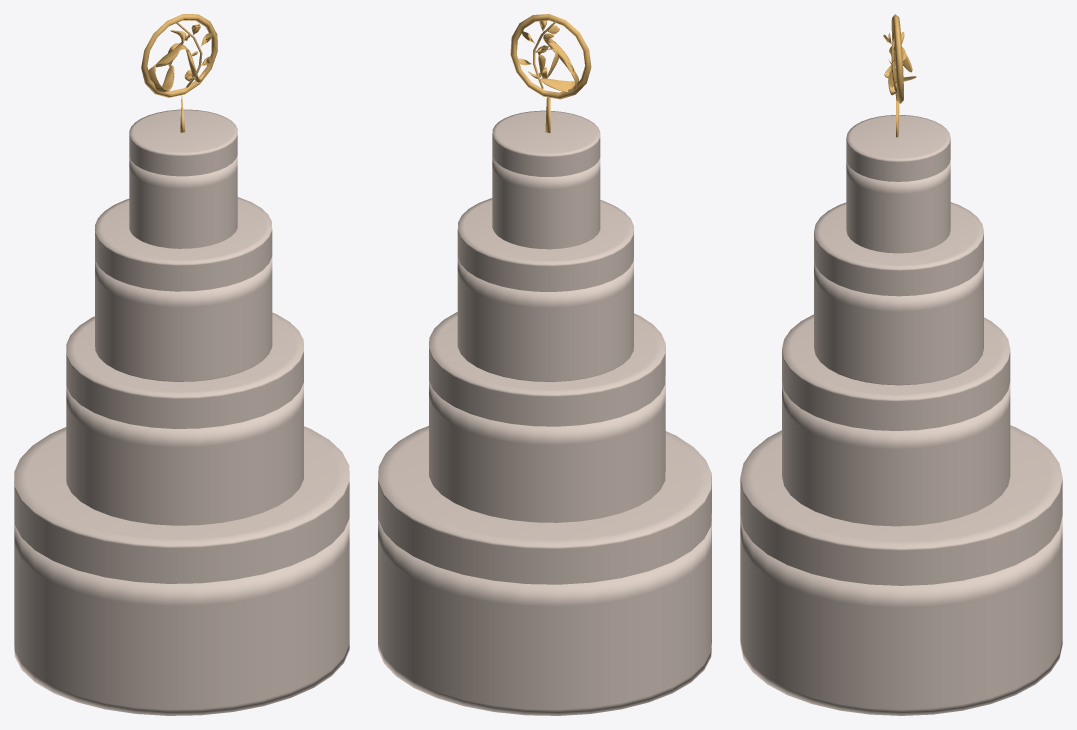
The model's file is 4-tier-white-none-ring.glb.
3 views of the same model, side by side, from view 1: azimuth 30°, elevation 25°; view 2: azimuth 150°, elevation 25°; view 3: azimuth 270°, elevation 25° (orthographic).
Visible parts, largest first — view 1: 3.001, 3, 2, 1, Cylinder.006; view 2: 3.001, 3, 2, 1, Cylinder.006; view 3: 3.001, 3, 2, 1, Cylinder.006.
Part boxes in pixels (x1,y1,x2,y2): 3.001: [14, 426, 349, 715]; 3: [66, 312, 303, 525]; 2: [95, 197, 272, 381]; 1: [129, 109, 237, 248]; Cylinder.006: [141, 14, 217, 132]; 3.001: [378, 426, 711, 715]; 3: [429, 312, 665, 522]; 2: [457, 198, 633, 381]; 1: [492, 110, 600, 249]; Cylinder.006: [510, 14, 591, 132]; 3.001: [740, 425, 1062, 715]; 3: [782, 314, 1010, 526]; 2: [814, 202, 983, 385]; 1: [846, 115, 950, 253]; Cylinder.006: [883, 14, 916, 137].
Bounding box in the file's own units: 4.43 × 9.13 × 4.27.
